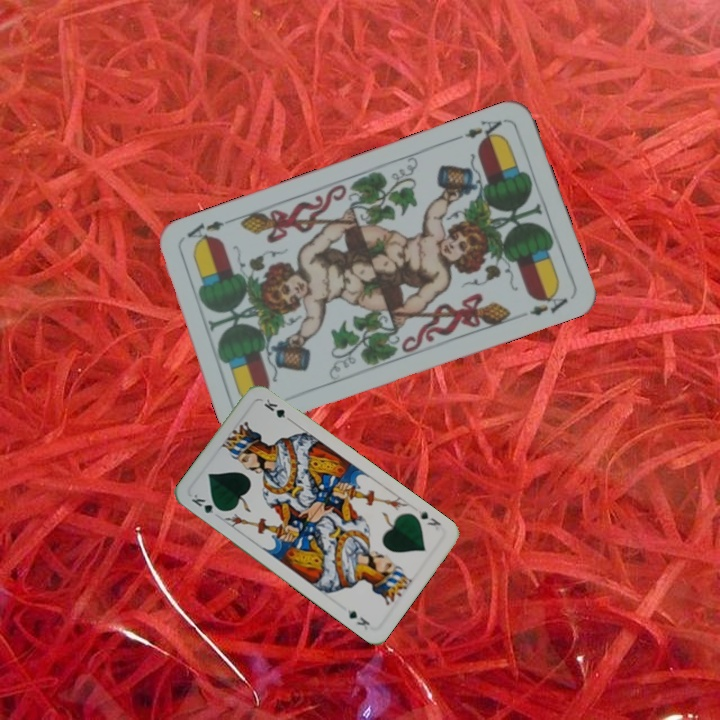EA: (450, 115, 508, 146)
GK: (187, 490, 225, 516), (414, 506, 443, 533)
